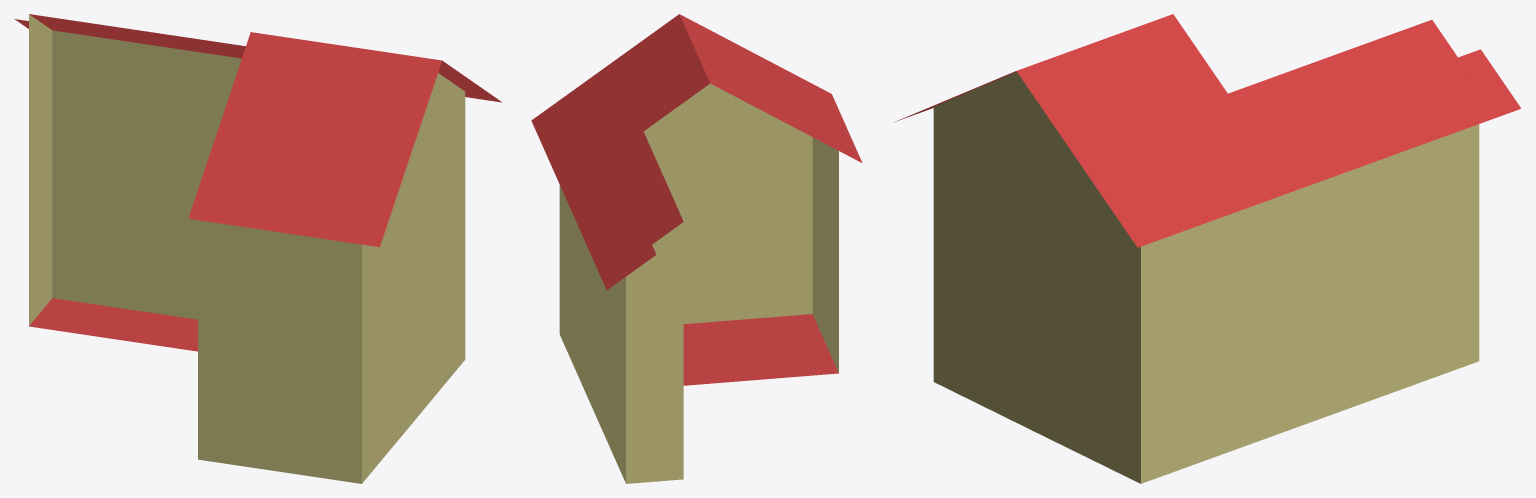
The picture shows the model from 3 angles, left to right: view 1: azimuth 30°, elevation 25°; view 2: azimuth 150°, elevation 25°; view 3: azimuth 270°, elevation 25°; orthographic projection. The views are drawn at different scales.
Size of the model in its own units: 10.57 by 15.81 by 10.27.
